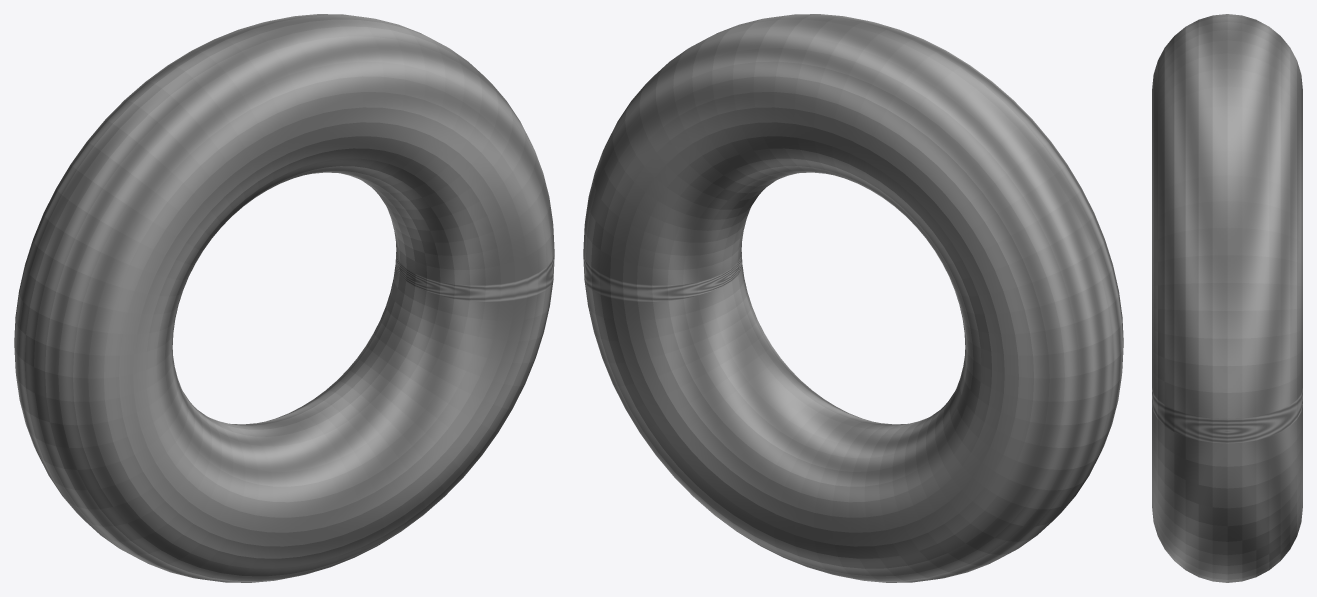
Rendered from torus-bright.glb.
The picture shows the model from 3 angles, left to right: view 1: azimuth 30°, elevation 25°; view 2: azimuth 150°, elevation 25°; view 3: azimuth 270°, elevation 25°; orthographic projection. The views are drawn at different scales.
Parts seen in each view (by area): view 1: world; view 2: world; view 3: world.
Boxes of the visible parts, left/top/right/bottom form: world: left=14, top=14, right=554, bottom=582; world: left=583, top=14, right=1123, bottom=582; world: left=1152, top=14, right=1302, bottom=582.
Bounding box in the file's own units: 1.36 × 1.36 × 0.36.
1 material, 1 textured.
